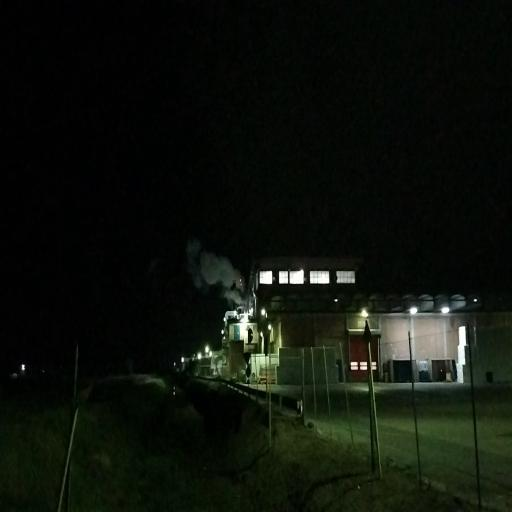leakage: (188, 236, 248, 314)
